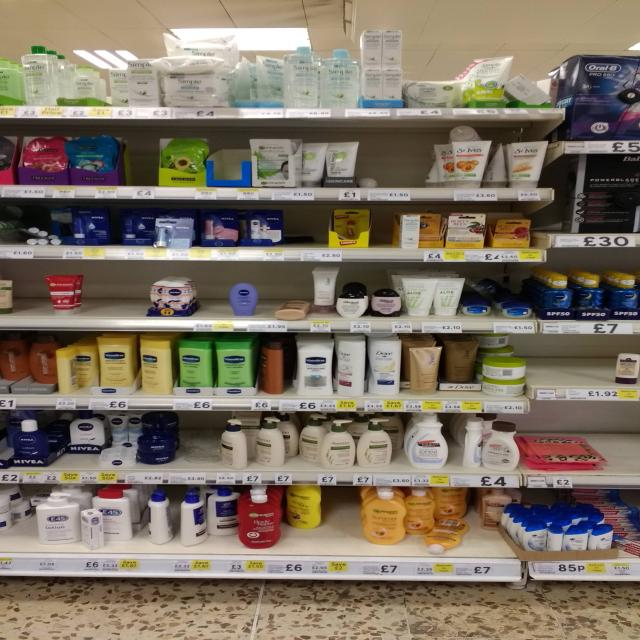void: (386, 120, 446, 202), (86, 261, 146, 333), (323, 486, 363, 578), (204, 127, 250, 201), (1, 488, 38, 575), (285, 202, 330, 268), (605, 408, 640, 489), (182, 411, 218, 484), (569, 331, 604, 402), (126, 127, 156, 200), (369, 206, 404, 260), (533, 334, 560, 402)
